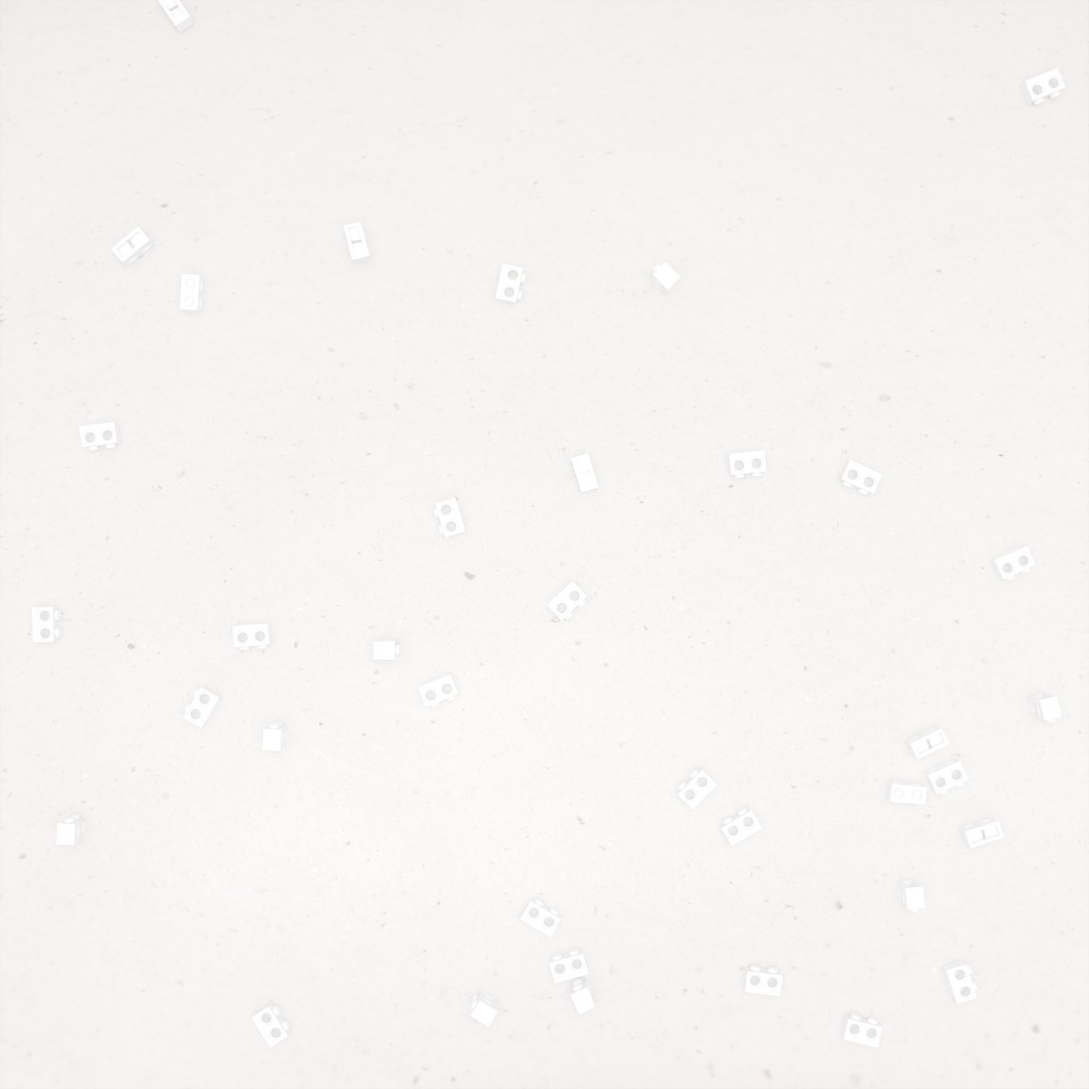lego: (251, 1001, 291, 1048), (676, 767, 717, 810), (111, 226, 155, 266), (1020, 68, 1066, 106), (183, 685, 223, 728), (520, 897, 561, 938), (719, 807, 762, 846), (924, 758, 969, 795), (942, 959, 978, 1004), (990, 546, 1036, 581), (547, 581, 587, 621), (838, 460, 882, 496), (905, 726, 950, 760), (840, 1013, 883, 1048), (549, 948, 589, 984), (418, 673, 459, 708), (959, 817, 1004, 848), (433, 498, 466, 538), (155, 0, 195, 33), (495, 263, 526, 305), (743, 965, 783, 997), (343, 221, 372, 264), (79, 422, 122, 451), (727, 450, 767, 479), (31, 606, 62, 643), (571, 453, 599, 493), (469, 990, 499, 1027), (232, 623, 272, 650), (1028, 692, 1062, 723), (650, 262, 680, 295), (886, 781, 927, 805), (570, 978, 596, 1015), (180, 274, 204, 314), (56, 814, 86, 846), (897, 879, 925, 912), (262, 722, 287, 751), (373, 639, 402, 660)
